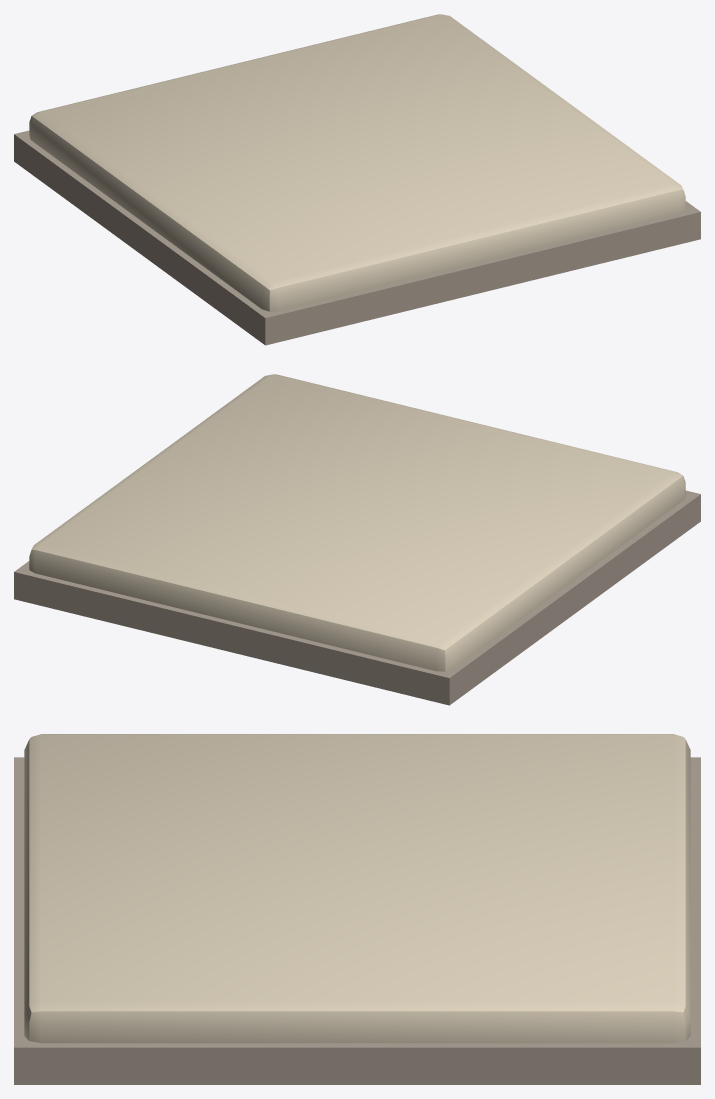
The model's file is floor_tile.glb.
The picture shows the model from 3 angles, top to bottom: view 1: azimuth 30°, elevation 25°; view 2: azimuth 150°, elevation 25°; view 3: azimuth 270°, elevation 25°; orthographic projection. The views are drawn at different scales.
Visible parts, largest first — view 1: floor_a; view 2: floor_a; view 3: floor_a.
Part boxes in pixels (<box>): floor_a: <box>14,14,700,345</box>; floor_a: <box>14,374,700,705</box>; floor_a: <box>14,734,700,1084</box>.
Size of the model in its own units: 1 by 0.115 by 1.
